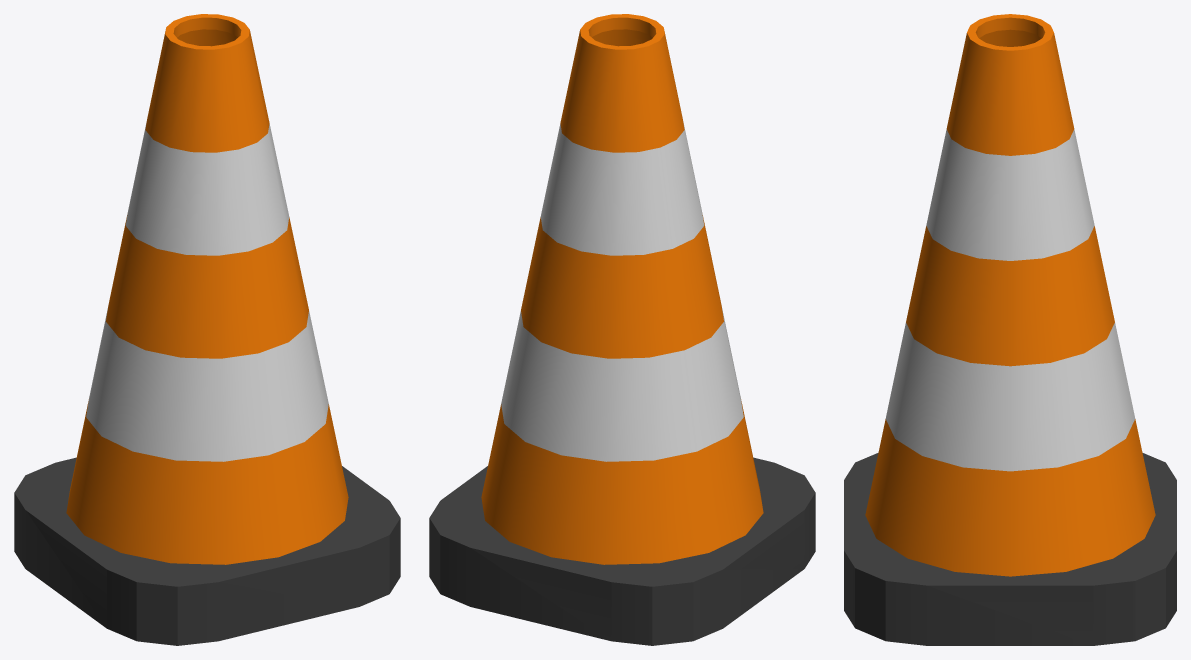
3 views of the same model, side by side, from view 1: azimuth 30°, elevation 25°; view 2: azimuth 150°, elevation 25°; view 3: azimuth 270°, elevation 25° (orthographic). The views are drawn at different scales.
Parts seen in each view (by area): view 1: Cube; view 2: Cube; view 3: Cube.
Part boxes in pixels (x1,y1,x2,y2): Cube: [14, 14, 400, 645]; Cube: [429, 14, 815, 645]; Cube: [844, 14, 1176, 645].
Bounding box in the file's own units: 50 × 90 × 50.
